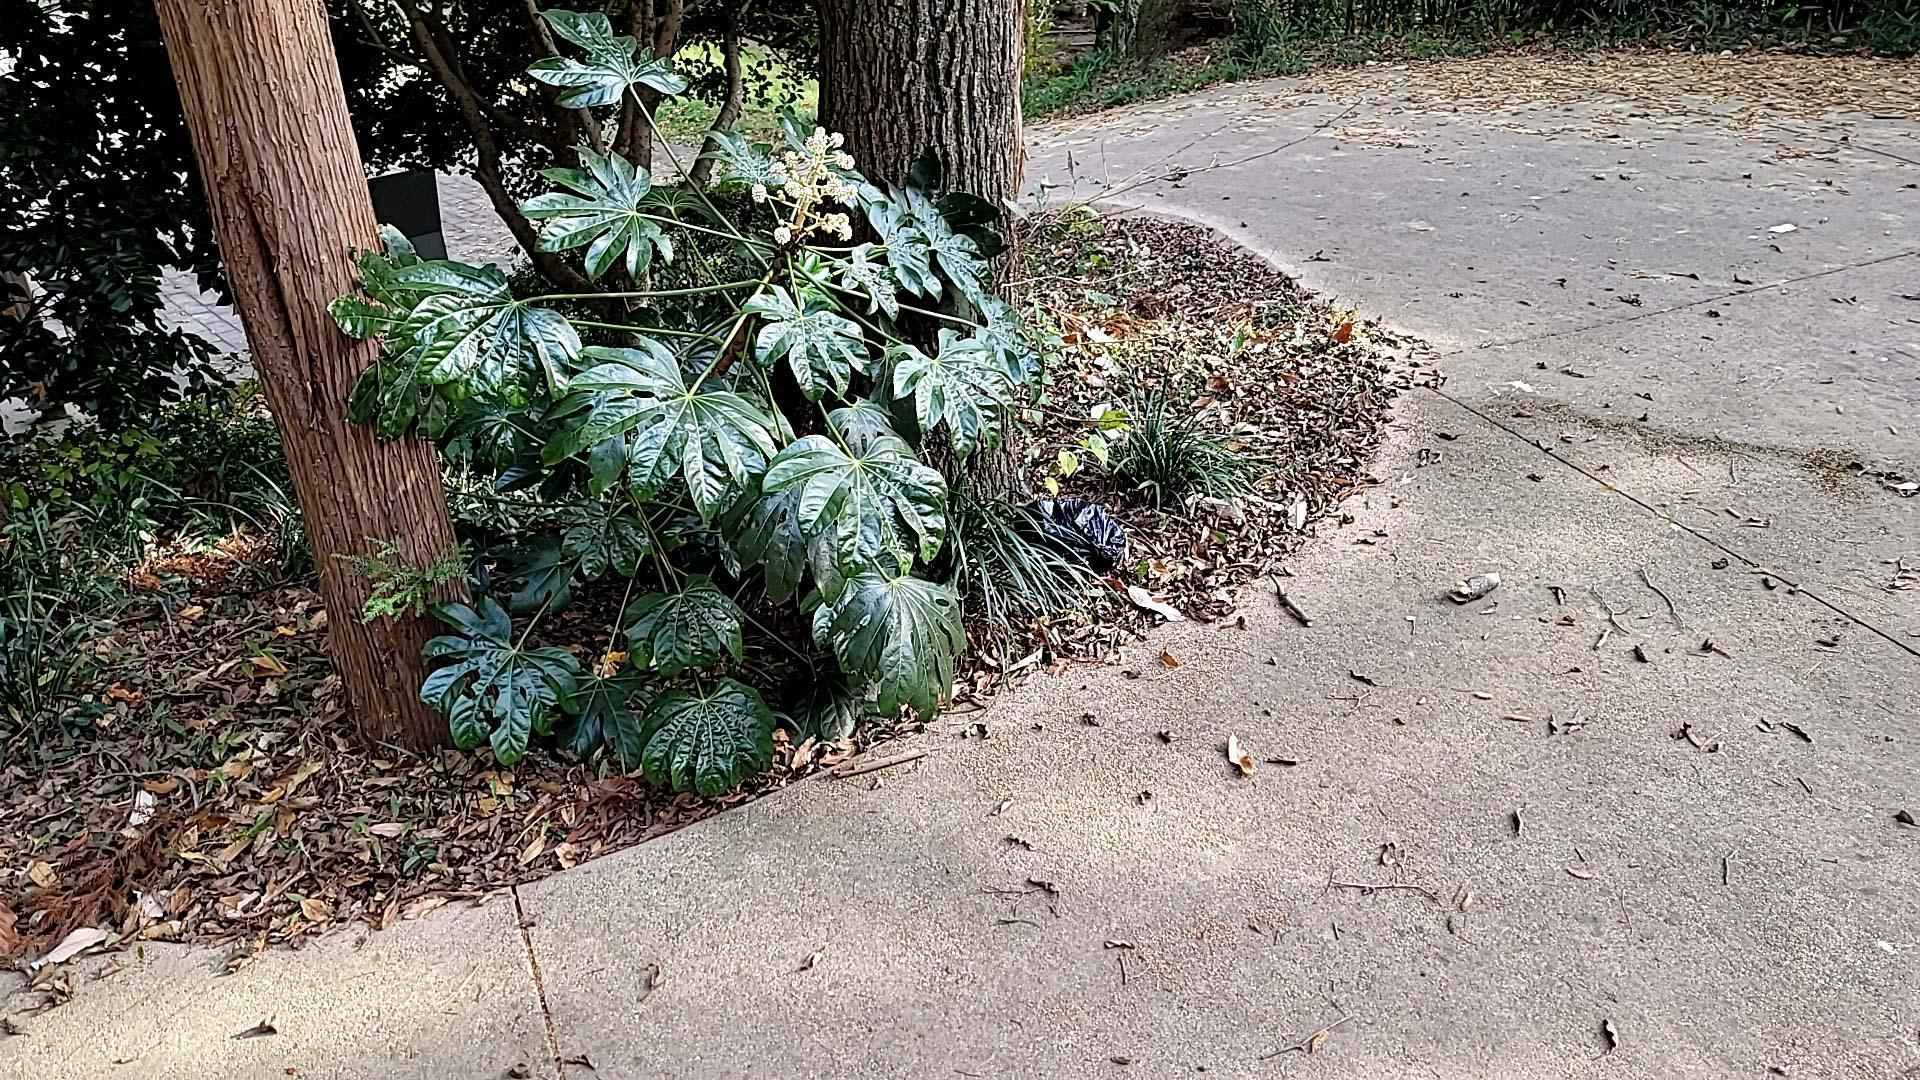black_bag: (1006, 487, 1130, 578)
